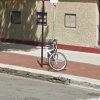Bicycle: (43, 36, 69, 72)
